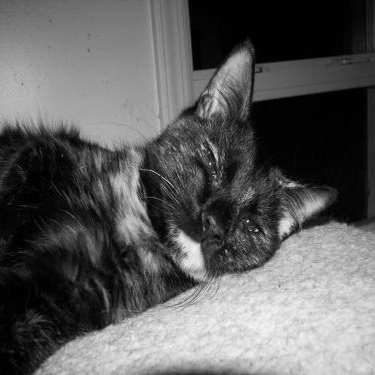cat: (1, 37, 339, 372)
